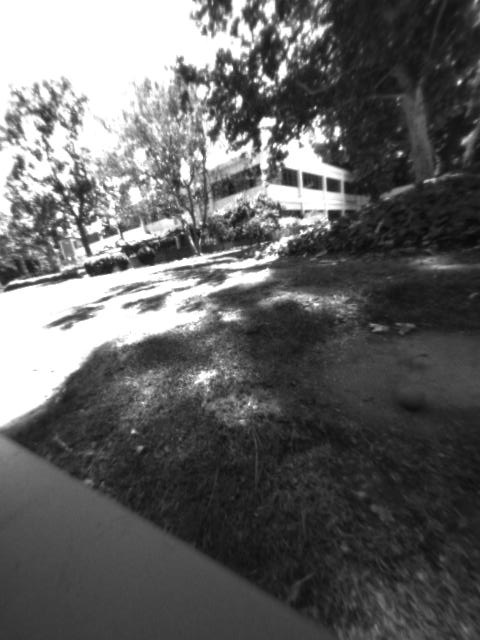dogtoy: (388, 377, 437, 419)
